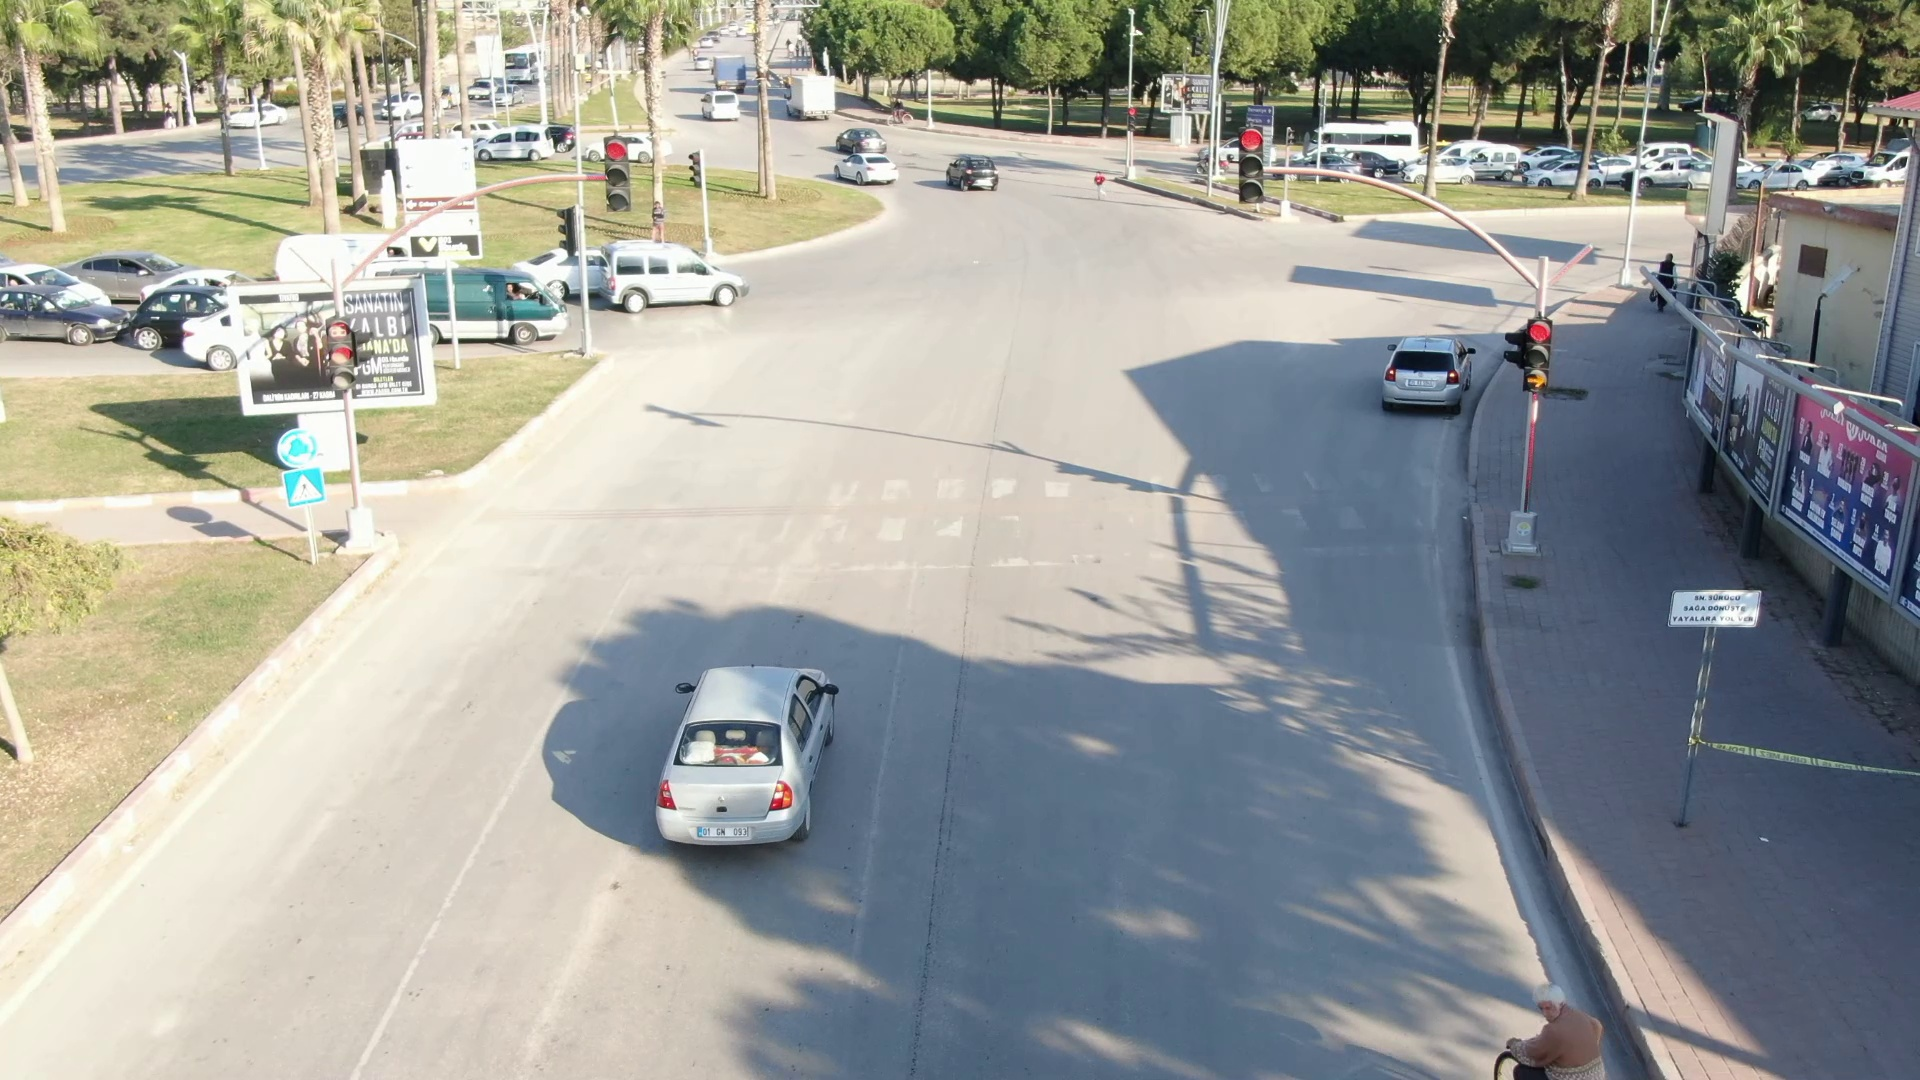car: (823, 131, 913, 199)
